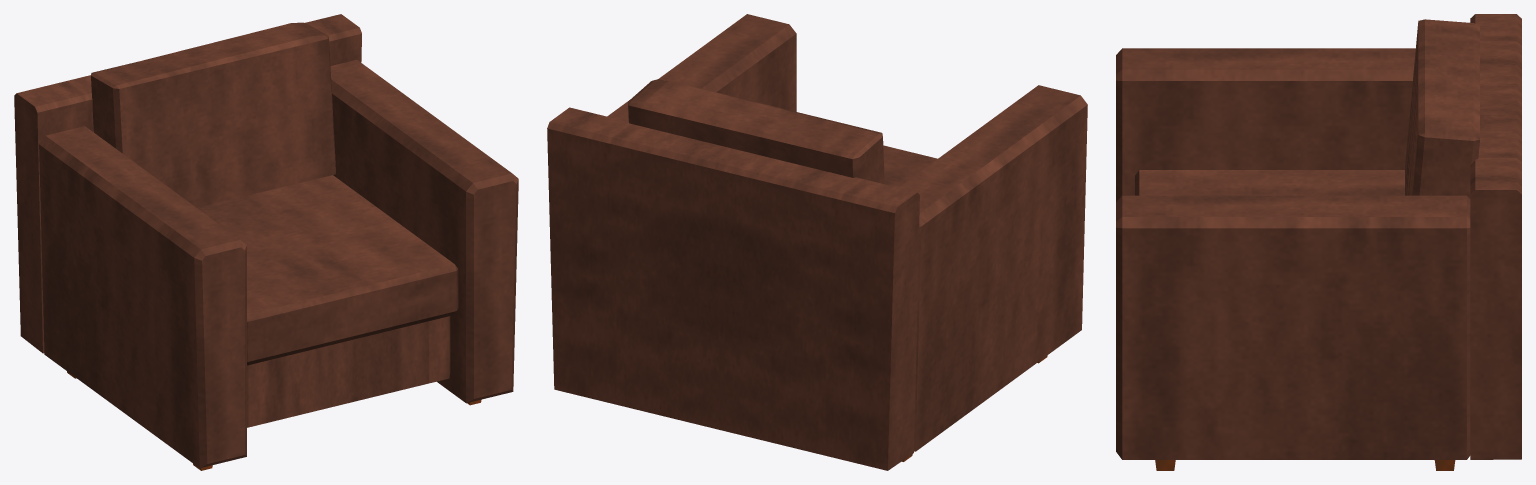
File: armchair_red.obj
The picture shows the model from 3 angles, left to right: view 1: azimuth 30°, elevation 25°; view 2: azimuth 150°, elevation 25°; view 3: azimuth 270°, elevation 25°; orthographic projection. The views are drawn at different scales.
Parts seen in each view (by area): view 1: armchair_red; view 2: armchair_red; view 3: armchair_red.
Part boxes in pixels (x1,y1,x2,y2): armchair_red: [14, 14, 518, 470]; armchair_red: [547, 14, 1087, 470]; armchair_red: [1116, 14, 1521, 470].
Size of the model in its own units: 1.4 by 1.19 by 1.36.
